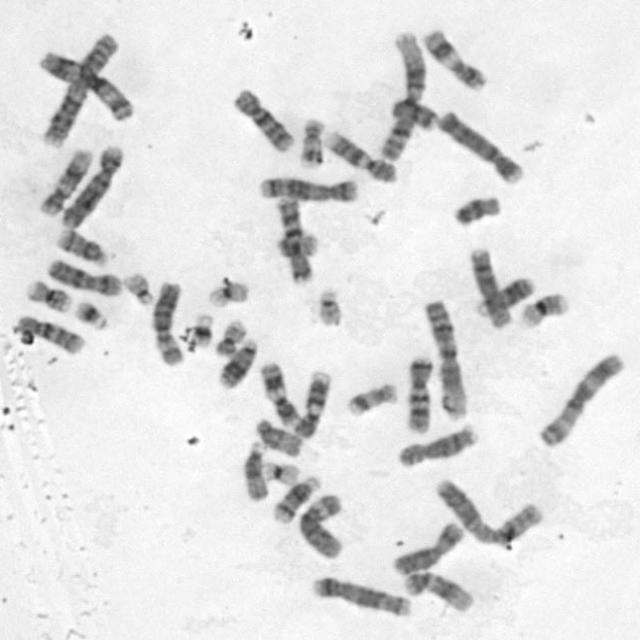A1: (376, 27, 428, 163), (421, 297, 469, 421)
A2: (39, 30, 118, 150), (432, 474, 544, 547)
A3: (533, 348, 627, 448), (34, 46, 135, 122)
B4: (436, 106, 525, 185), (56, 141, 126, 229)
B5: (308, 572, 414, 620), (255, 173, 361, 203)
C10: (230, 86, 295, 154), (11, 311, 88, 356)
C11: (420, 25, 489, 93), (258, 358, 301, 428)
C12: (36, 144, 96, 218), (400, 566, 476, 614)
C6: (294, 490, 348, 560), (147, 277, 187, 367)
C7: (271, 192, 315, 285), (401, 353, 437, 436)
C8: (392, 420, 479, 469), (466, 244, 513, 330)
C9: (322, 127, 397, 184), (290, 366, 333, 439)
D13: (472, 273, 536, 317), (213, 335, 259, 391)
D14: (268, 472, 323, 524), (54, 225, 110, 268)
D15: (252, 416, 304, 458), (239, 437, 271, 503)
E16: (515, 290, 569, 330), (22, 276, 74, 314)
E17: (342, 379, 399, 418), (296, 114, 326, 169)
E18: (448, 192, 503, 228), (388, 95, 437, 132)
F19: (203, 277, 251, 308), (258, 458, 301, 486)
F20: (213, 316, 249, 358), (276, 234, 319, 258)
G21: (182, 310, 215, 352), (72, 297, 110, 331)
G22: (310, 286, 347, 328), (121, 268, 156, 306)
X: (389, 519, 466, 576), (43, 255, 124, 298)
